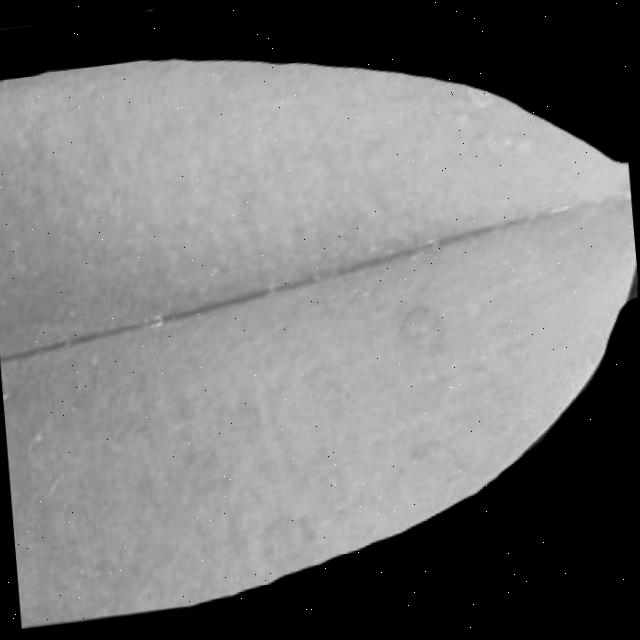mite: (391, 306, 438, 349)
